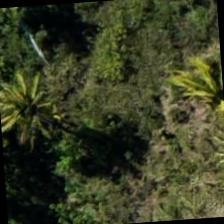Kelapa_Sawit: (0, 59, 75, 155), (167, 47, 223, 141)
